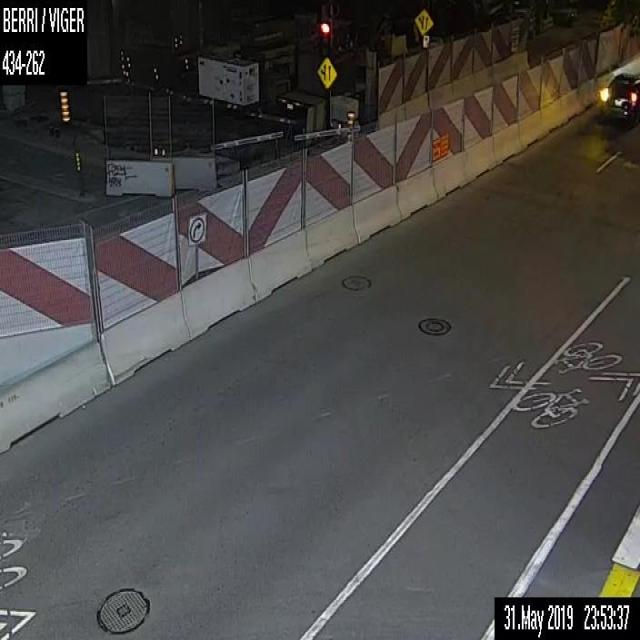construction: (58, 88, 71, 124), (345, 111, 356, 137)
vehicle: (596, 69, 639, 131)
